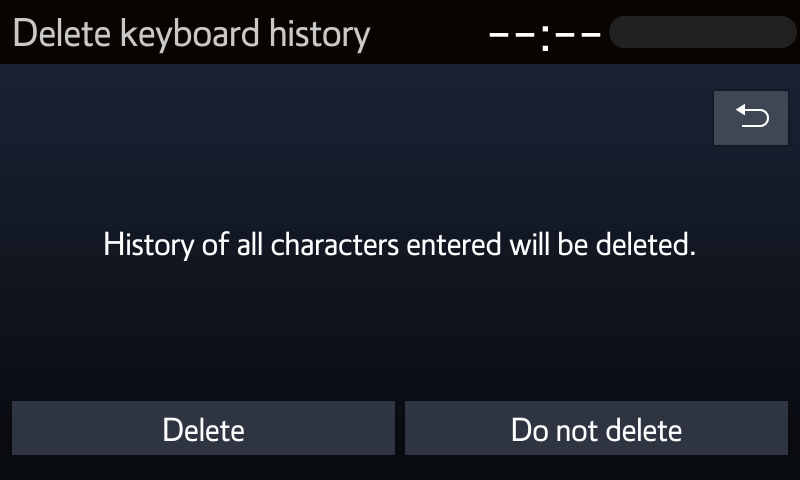touchPart: (401, 399, 793, 458), (9, 399, 398, 458), (712, 89, 789, 145)
untouchPart: (86, 214, 705, 271), (8, 11, 371, 55), (608, 14, 795, 49), (481, 15, 601, 54)
